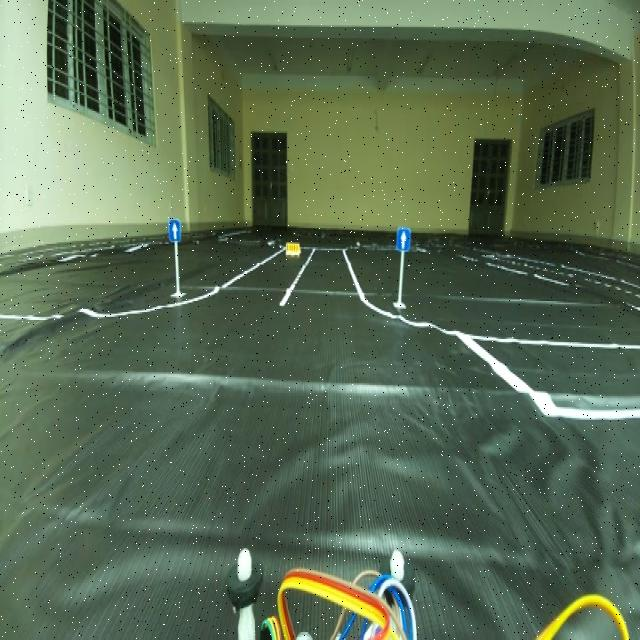onewayroad: (394, 219, 418, 263), (166, 216, 180, 242)
roadblock: (284, 239, 300, 260)
